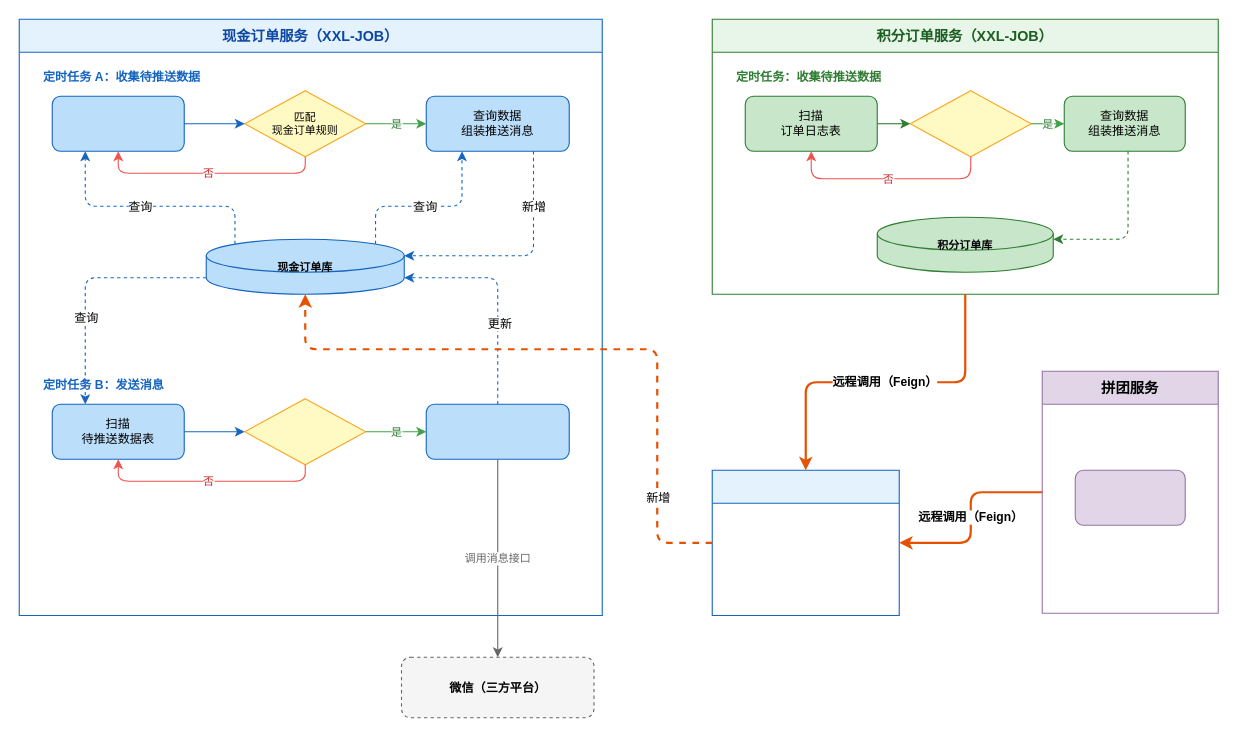
Some shapes in this 1238 by 737 pixel diagram are drawn without their labels. Here are the shapes that lost their labels. From the top down, the centre of each, then its label:
At point (117, 123): "扫描 订单轨迹表".
At point (970, 123): "匹配 积分订单规则".
At point (305, 431): "匹配 订单状态".
At point (497, 431): "调用微信 消息接口".
At point (1129, 497): "支付成功回调".
At point (805, 542): "现金订单服务（Feign ）".
